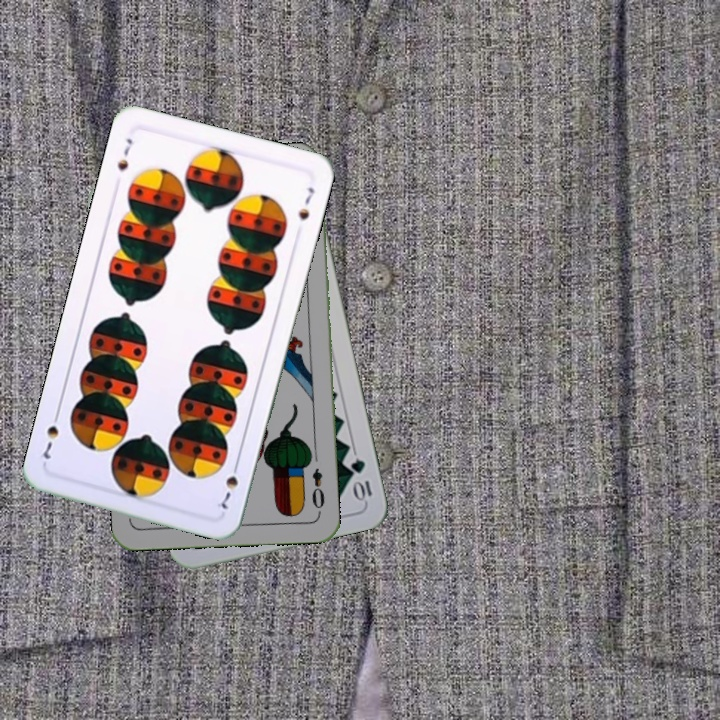EO: (308, 464, 328, 516)
G10: (347, 454, 375, 504)
S7: (213, 457, 242, 513), (113, 134, 135, 173)
